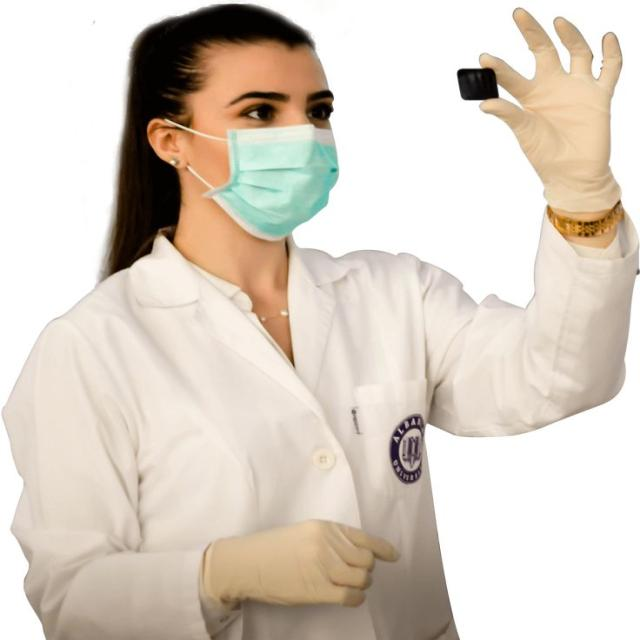Gloves: (466, 7, 636, 225), (207, 513, 402, 619)
Mask: (153, 104, 351, 253)
